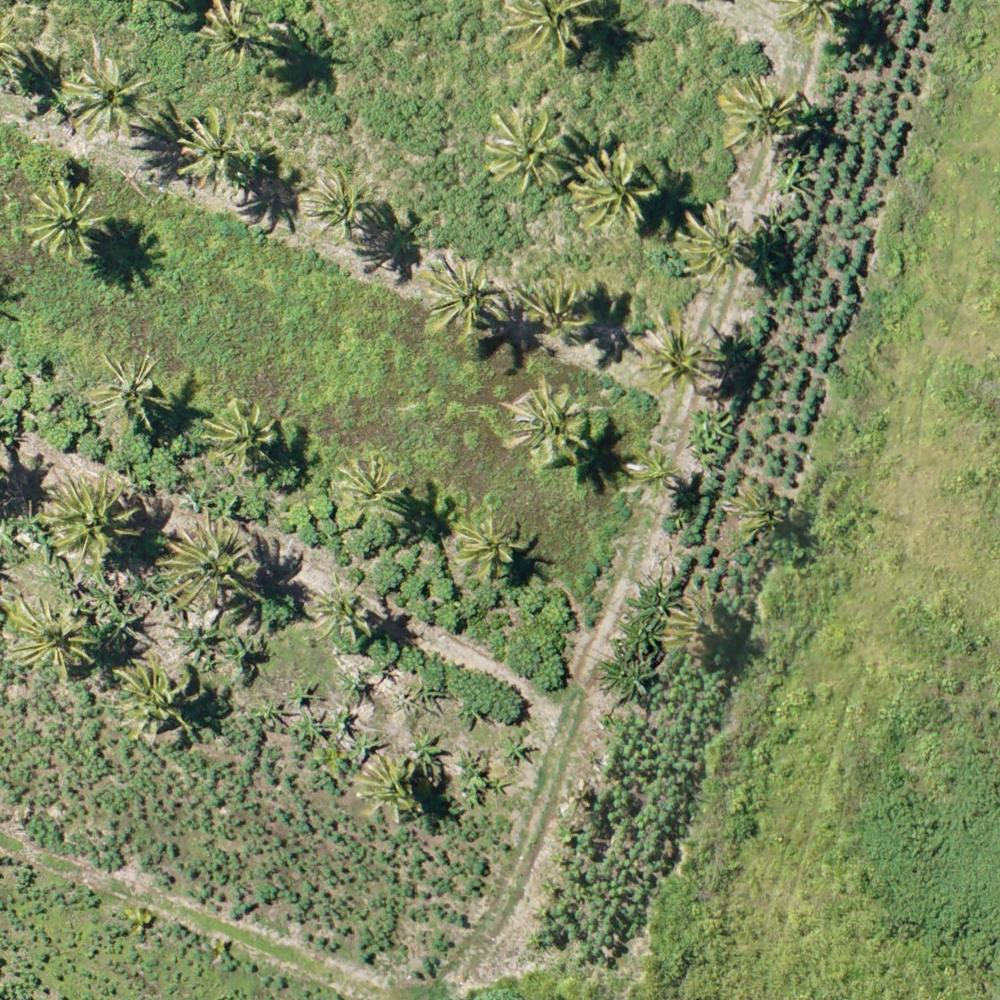Palm: (43, 473, 141, 566), (159, 517, 247, 615), (7, 589, 99, 679), (416, 249, 505, 342), (62, 59, 155, 143), (572, 149, 661, 231), (674, 206, 757, 291), (498, 1, 604, 67), (639, 312, 725, 393), (503, 382, 588, 462), (484, 106, 569, 184), (25, 182, 106, 260), (715, 75, 799, 150), (87, 356, 168, 430), (115, 657, 191, 734), (181, 110, 252, 192), (518, 275, 599, 343), (190, 1, 272, 68), (202, 398, 276, 471), (305, 169, 375, 242), (445, 514, 518, 579), (353, 748, 420, 816), (334, 454, 401, 518), (626, 443, 681, 498)
